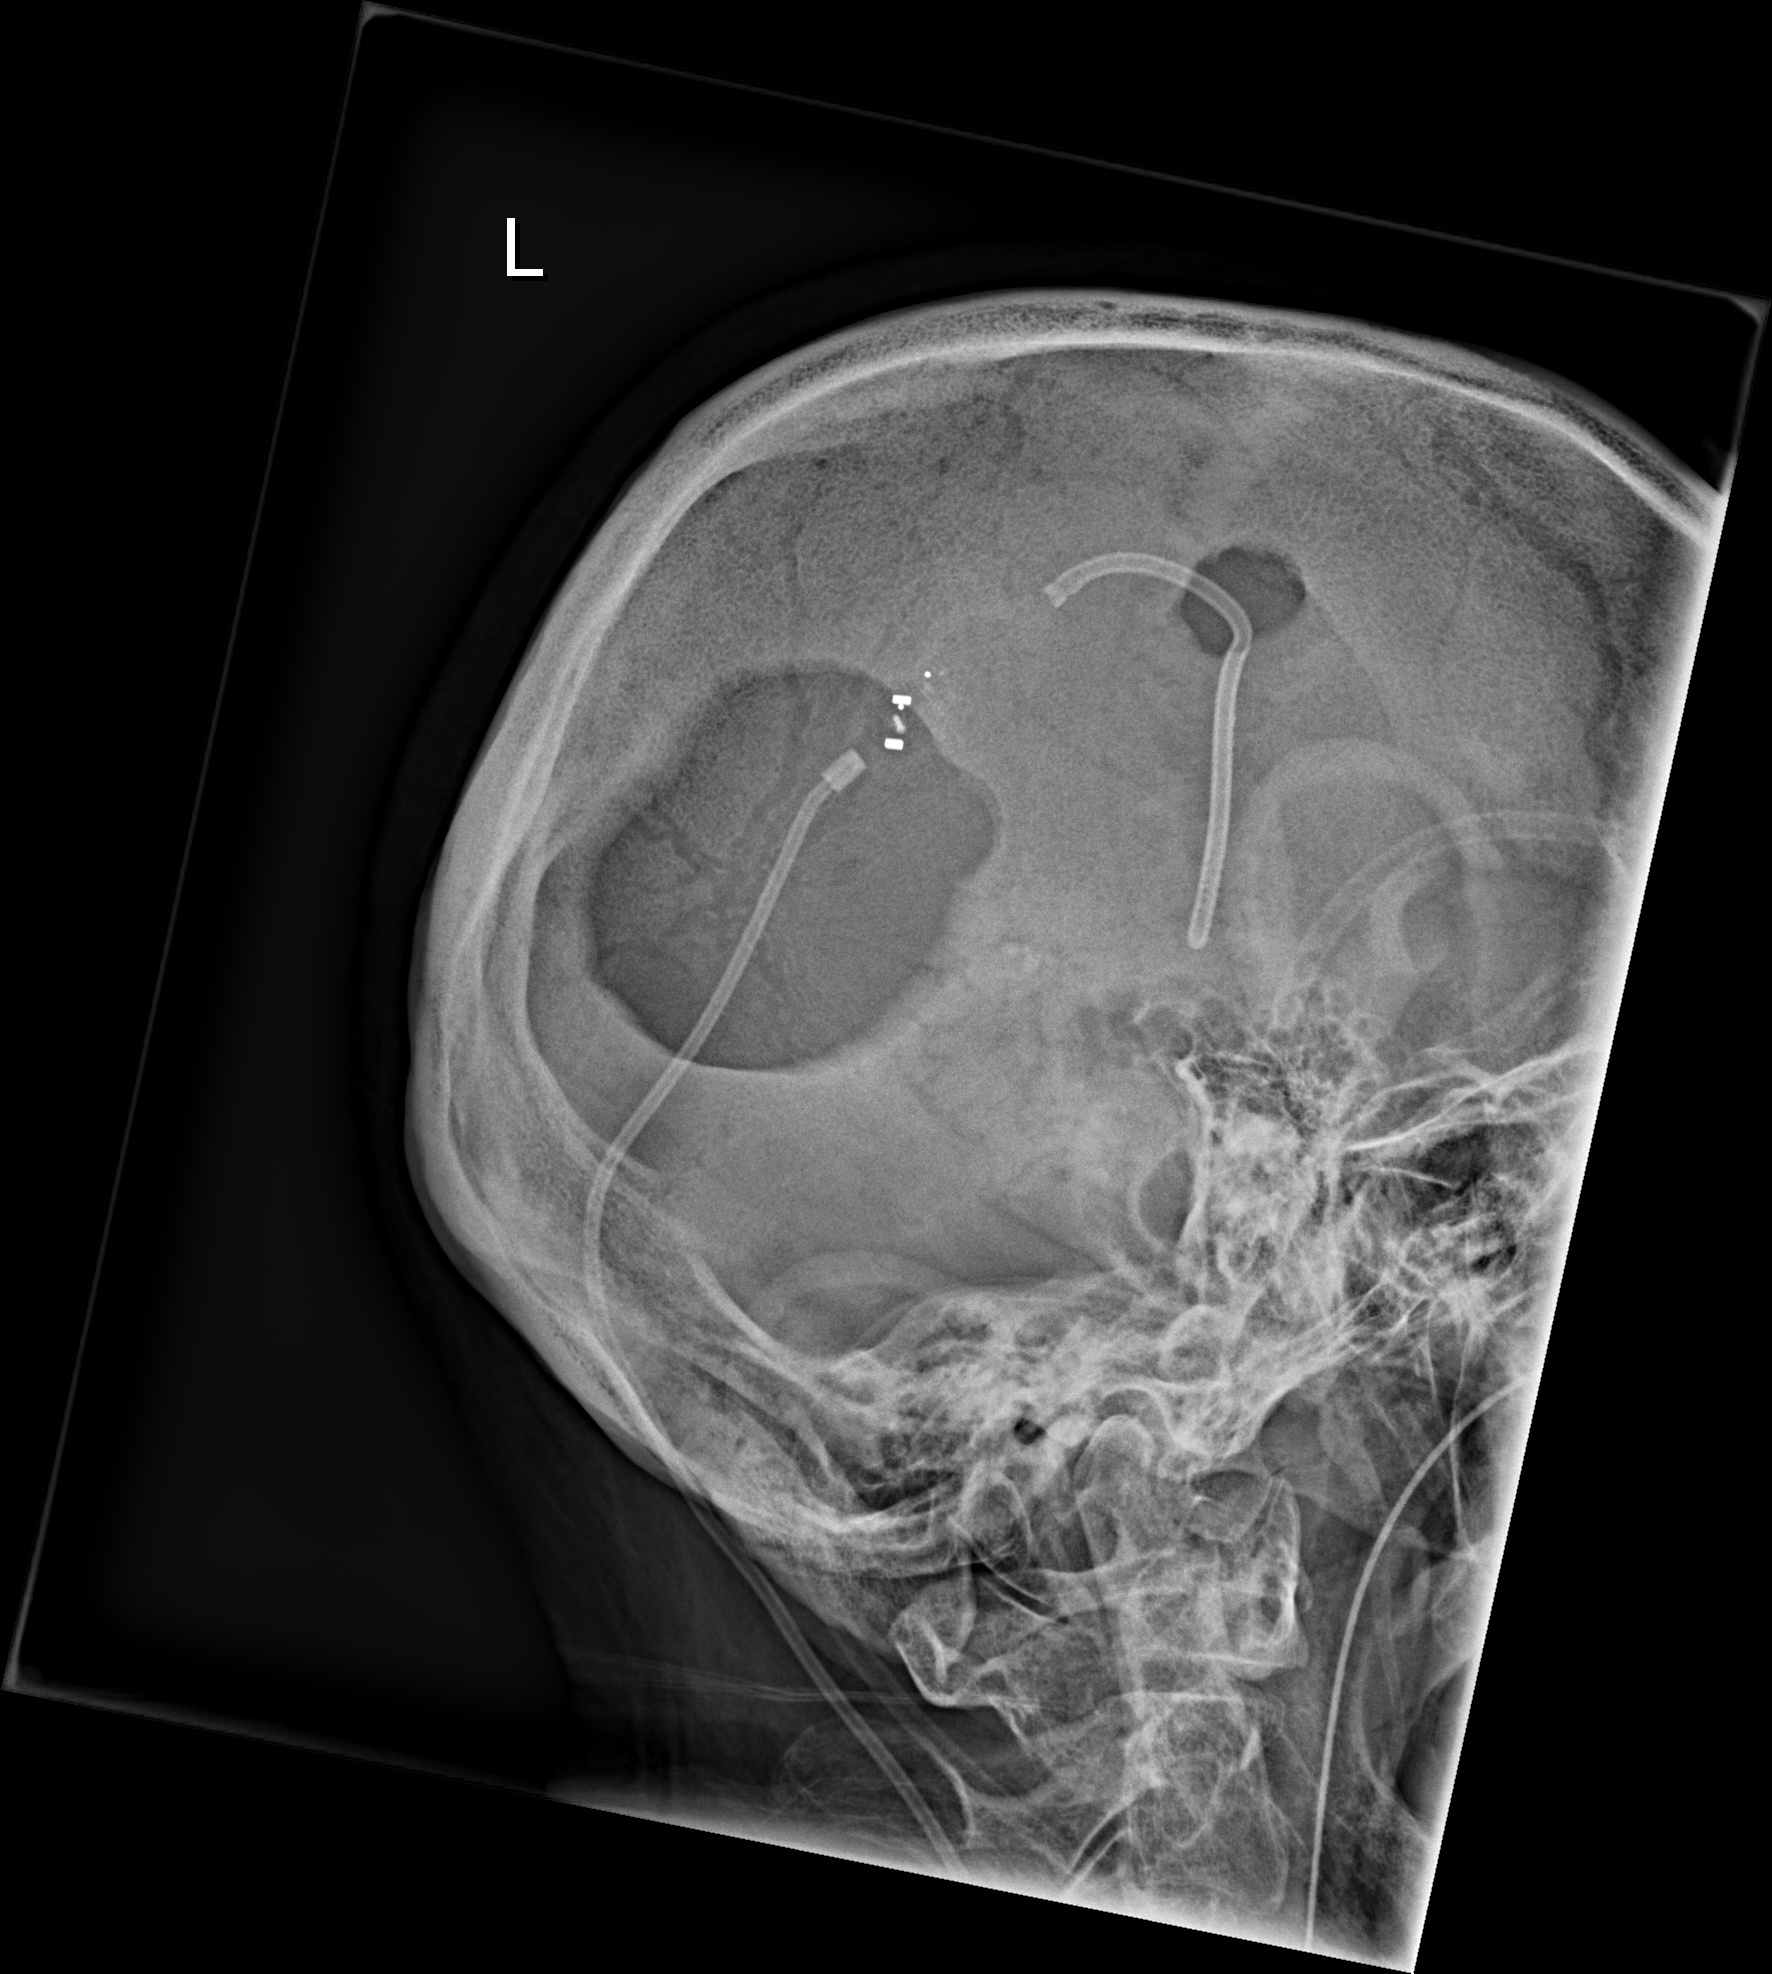Codman Certas: (843, 659, 965, 782)
